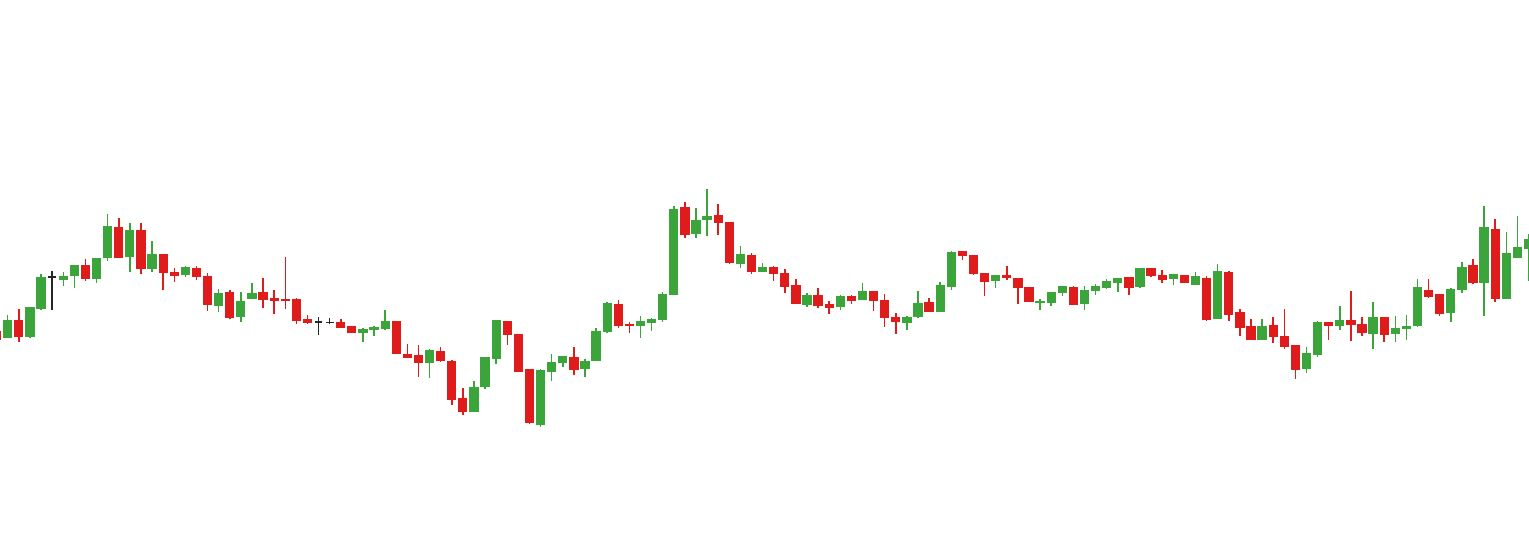buy: (458, 347, 546, 429)
